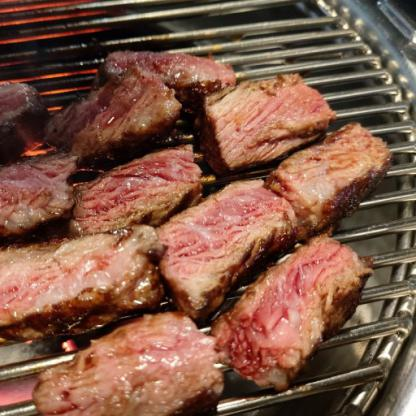Carne: (210, 235, 369, 386), (37, 315, 231, 415), (152, 181, 300, 310), (0, 224, 158, 331), (268, 117, 391, 242), (201, 71, 326, 180), (62, 150, 209, 224), (43, 73, 179, 147), (101, 43, 244, 92), (0, 153, 75, 230)
